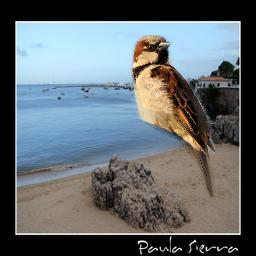Swallow: (130, 35, 215, 198)
